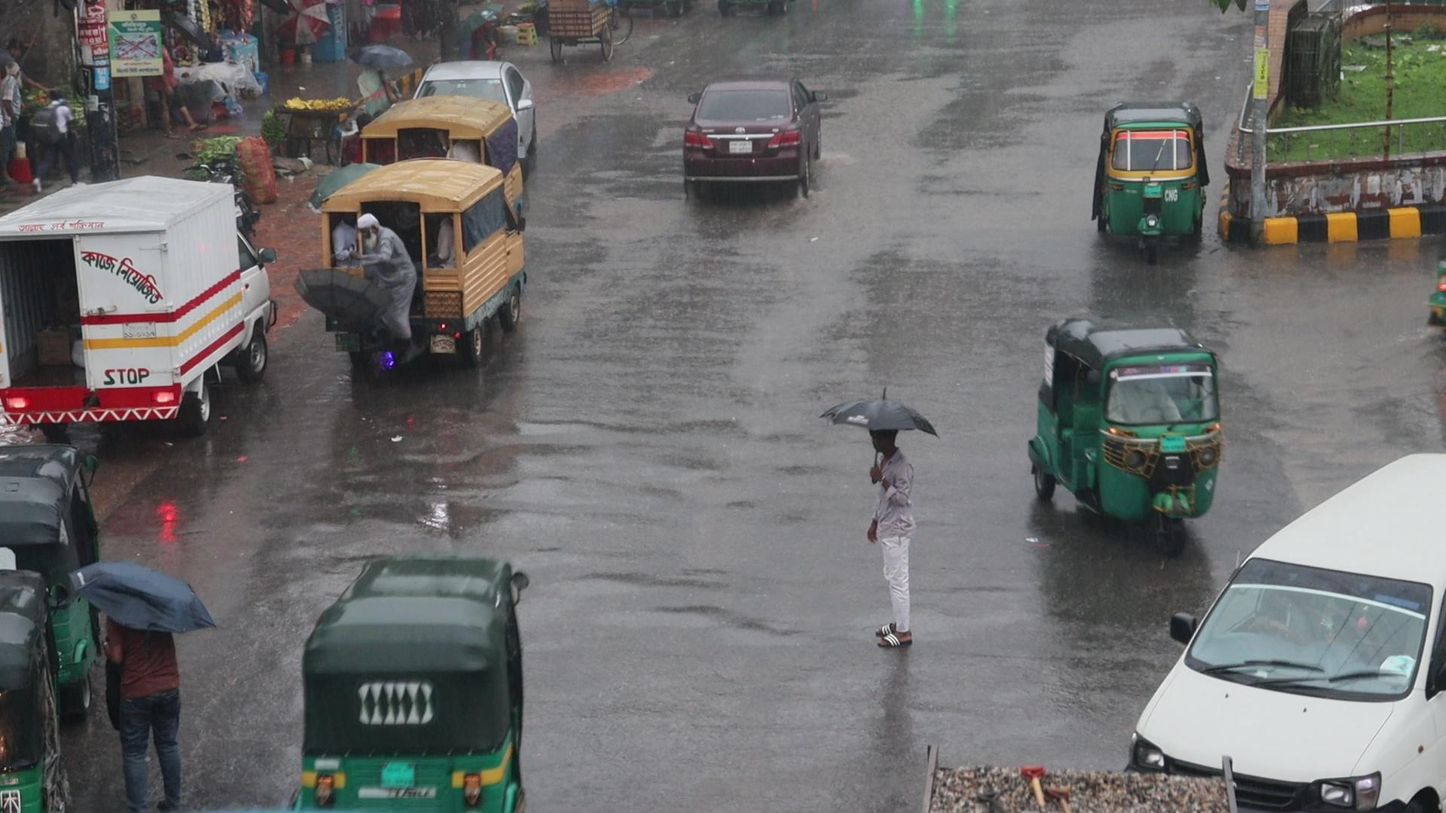Car: (1128, 442, 1446, 813), (674, 66, 830, 210)
Truck: (309, 155, 522, 384)
